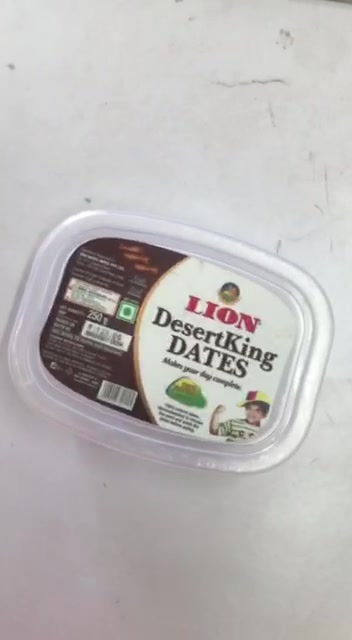Lion dates: (8, 207, 334, 473)
